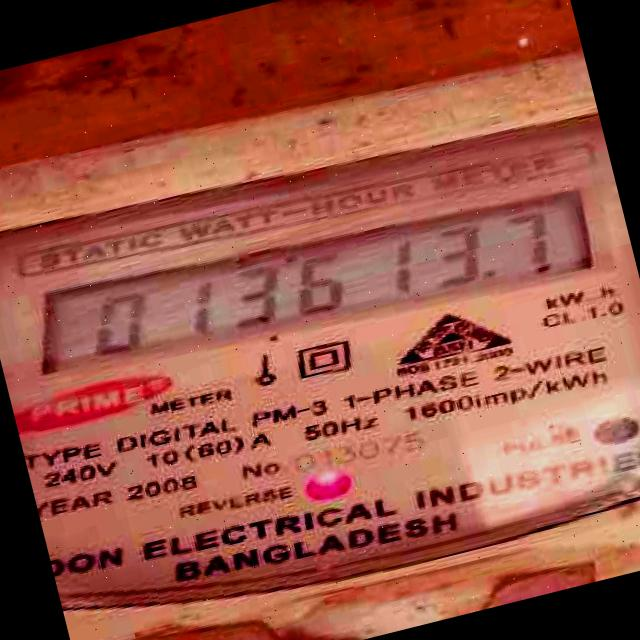LCD: (31, 148, 618, 416)
